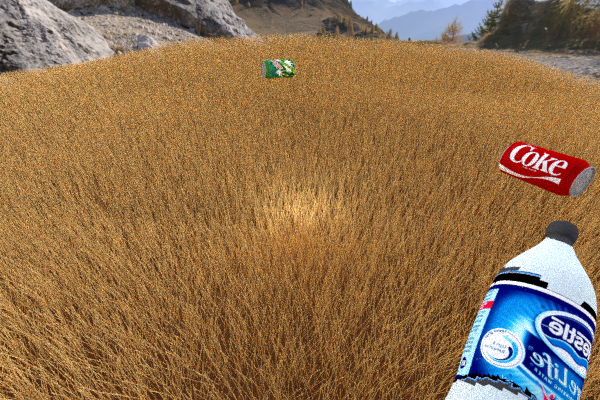Plastic Bottle: (413, 220, 596, 400), (498, 141, 595, 196), (260, 59, 295, 78)
